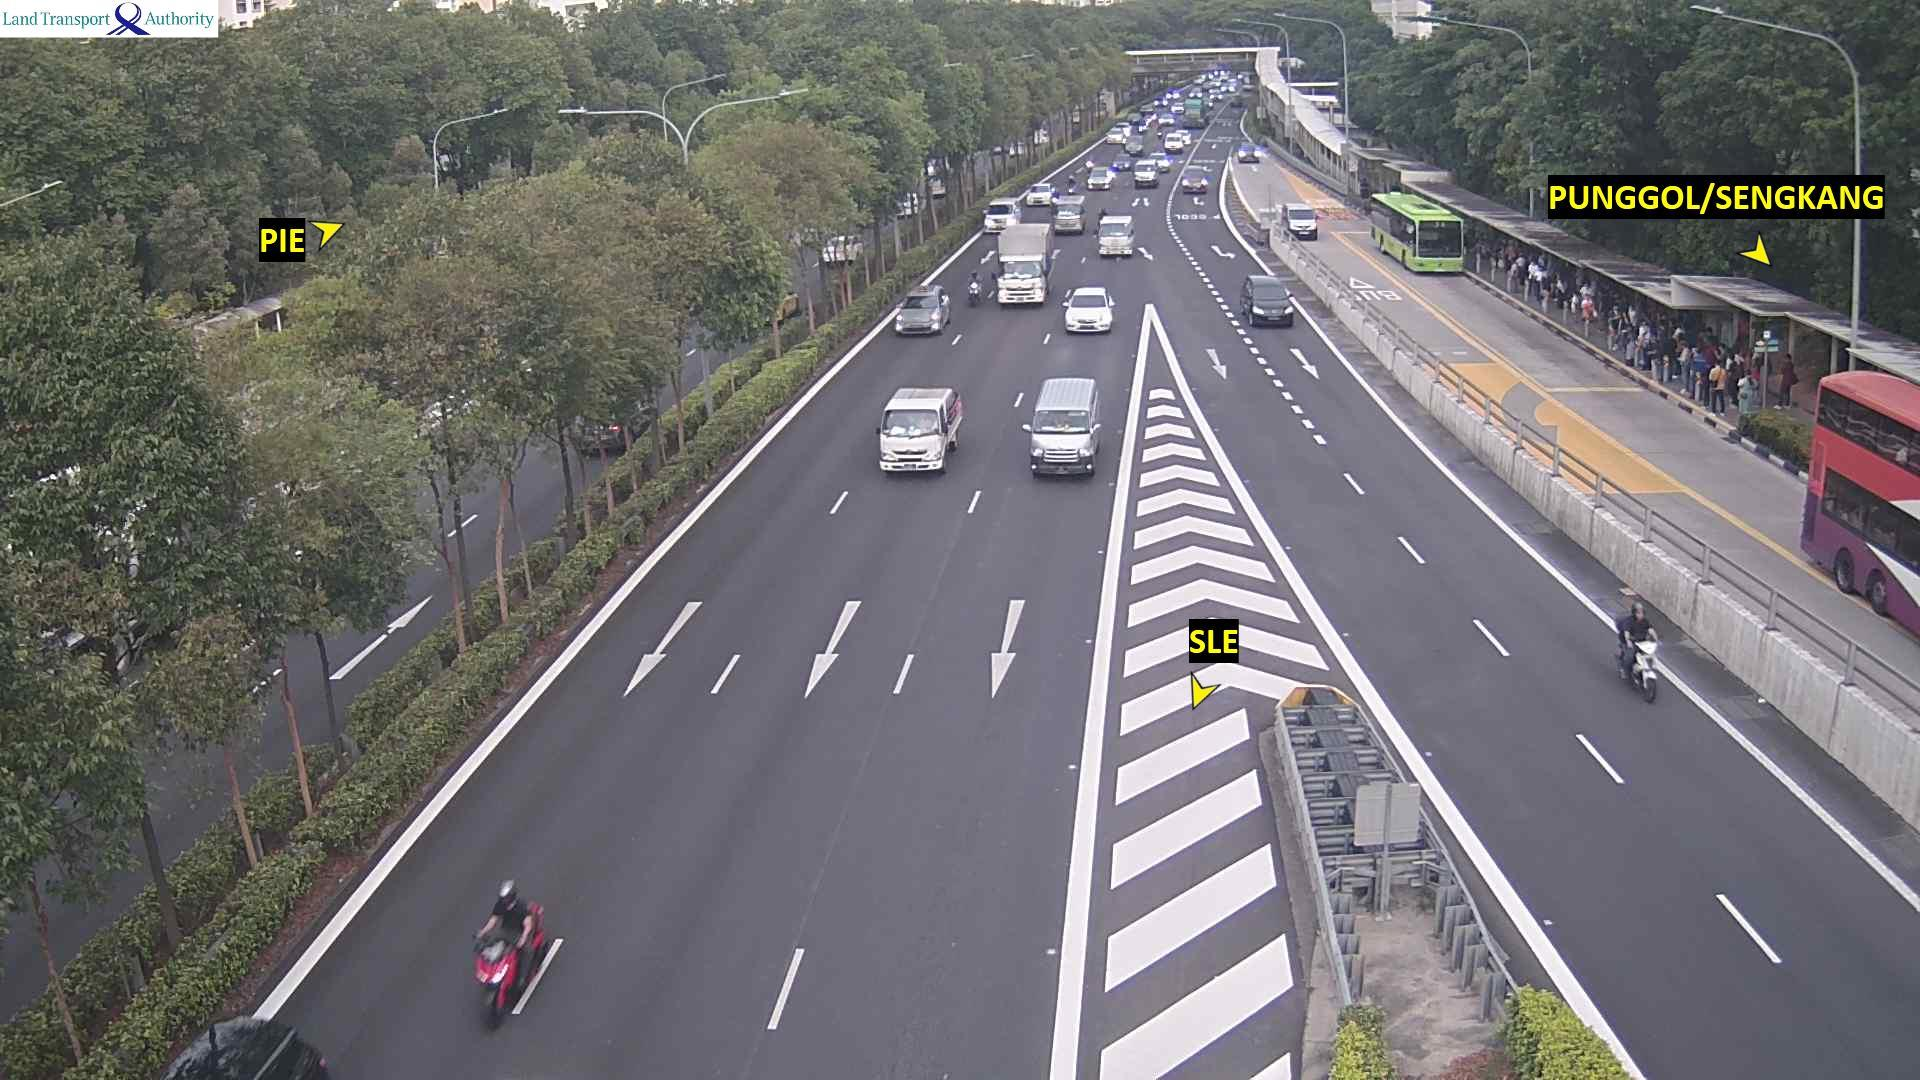incoming: (464, 934, 524, 1033), (1022, 411, 1101, 479), (876, 409, 949, 477), (1406, 219, 1470, 278), (1627, 642, 1667, 705), (998, 257, 1047, 307), (1242, 286, 1298, 327), (894, 295, 948, 335), (1063, 294, 1114, 332), (1096, 220, 1135, 257), (1284, 208, 1320, 240), (1050, 204, 1087, 233), (982, 203, 1021, 231), (1179, 171, 1211, 195), (1087, 167, 1112, 193), (1131, 164, 1156, 189), (1025, 185, 1051, 206), (1236, 146, 1263, 164), (1164, 136, 1184, 154), (968, 284, 982, 307), (1106, 128, 1125, 146), (1112, 153, 1129, 173), (1125, 136, 1145, 153)
